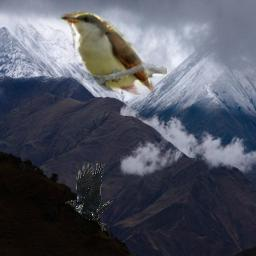Crow: (65, 160, 114, 231)
Cuckoo: (57, 5, 167, 95)
